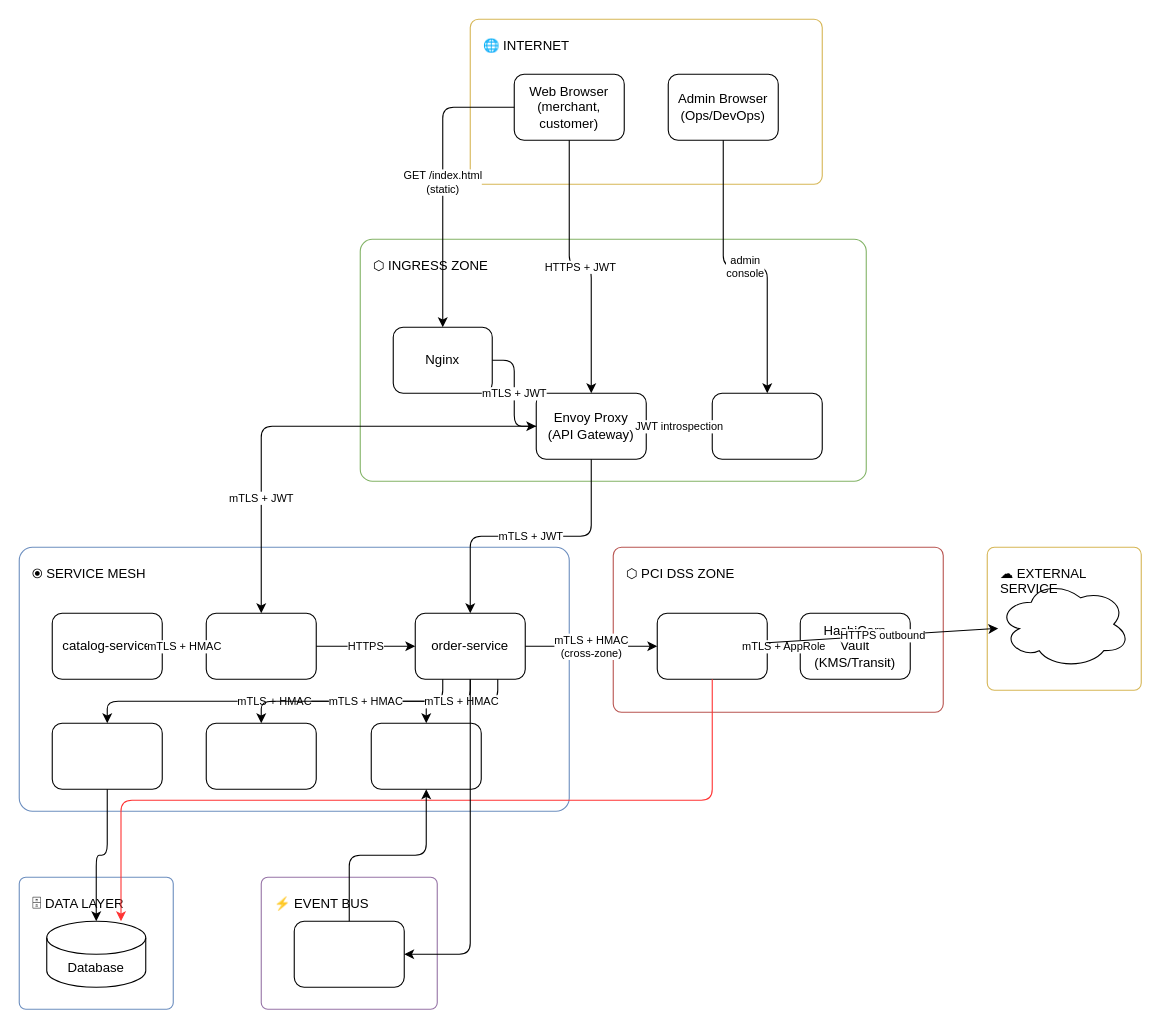
Some shapes in this 1161 by 1029 pixel diagram are drawn without their labels. Here are the shapes that lost their labels. From the top down, the centre of each, then its label:
At point (766, 425): "Keycloak (IdP)".
At point (1063, 623): "Stripe PSP (3DS/test mode)".
At point (260, 645): "cart-service".
At point (711, 645): "payment- service".
At point (106, 755): "inventory- service".
At point (260, 755): "shipping- service".
At point (425, 755): "noti-service".
At point (348, 953): "Apache Kafka (Event Streaming)".
